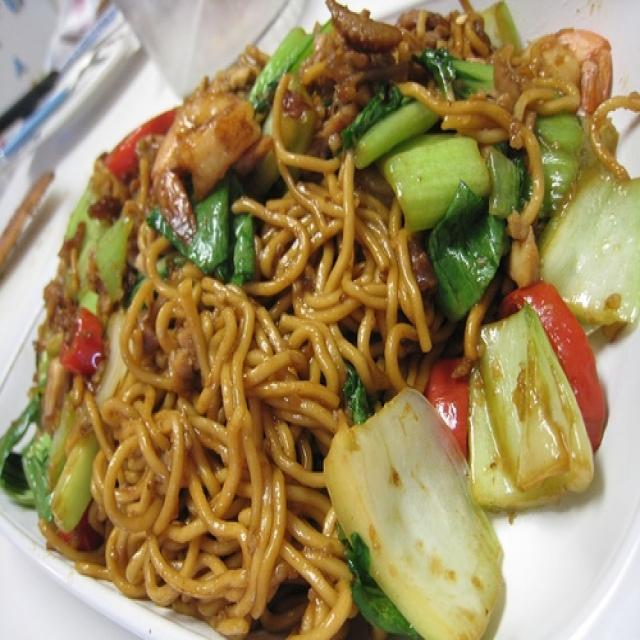面条主食: (11, 7, 634, 626)
